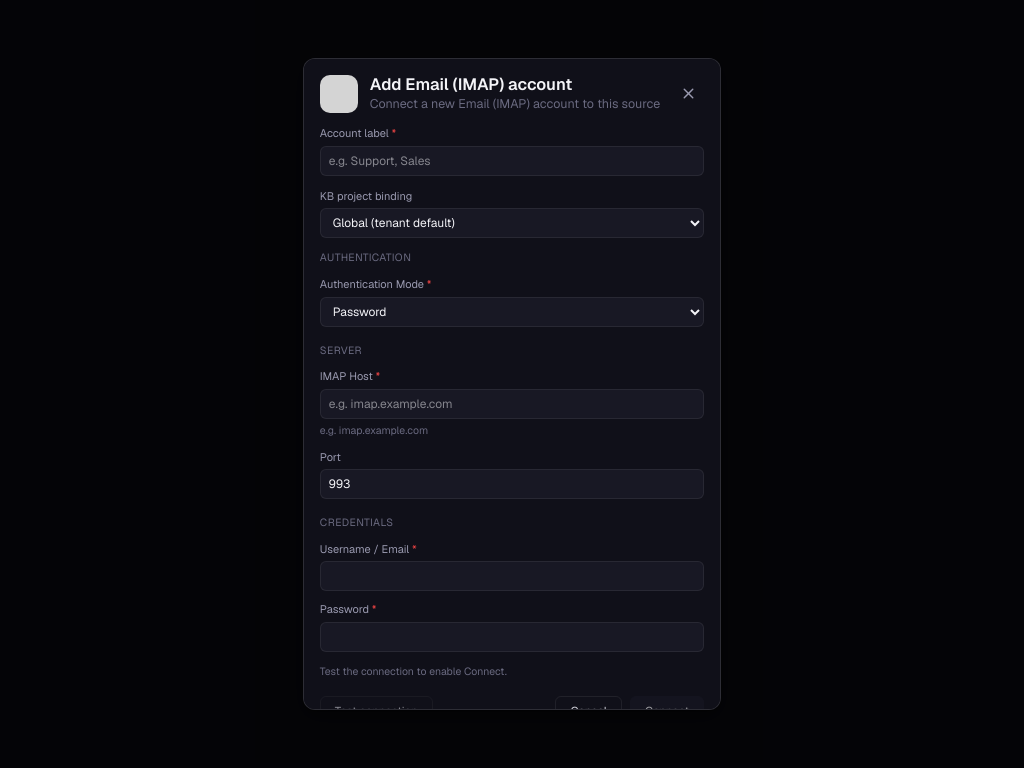
Test: CredentialConnectorForm › does not gate Connect in xoauth2 mode (no synchronous test)
Select "OAuth2" in the dropdown with test id "connector-imap-form-auth_mode" at (512, 312), box [320,297,704,327]
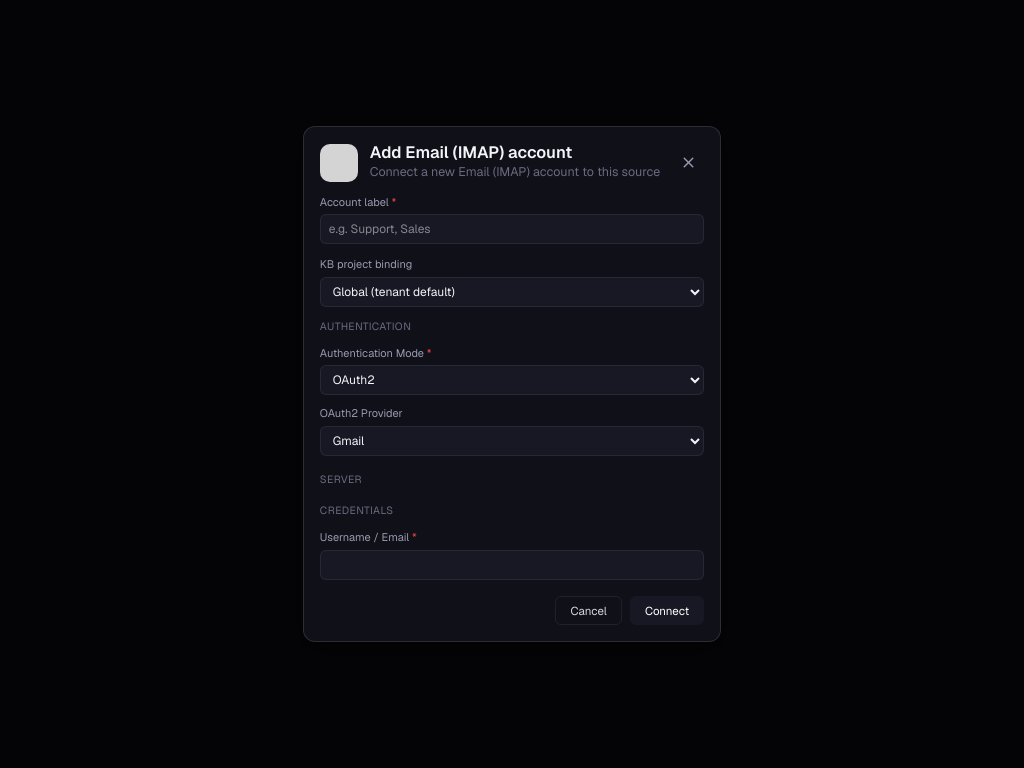
Now the button with test id "connector-imap-form-test" is gone
Now the text with test id "connector-imap-form-test-hint" is gone
Now the button with test id "connector-imap-form-submit" is enabled, box [630,596,704,625]
